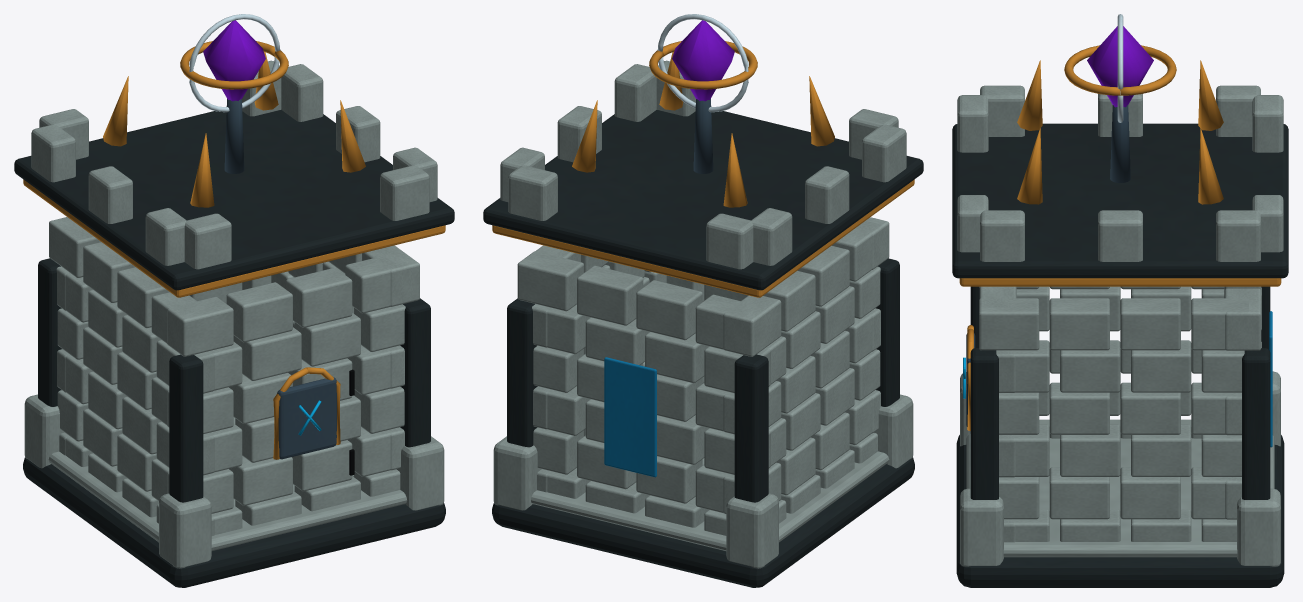
Rendered from SM_tower_core.fbx.
3 views of the same model, side by side, from view 1: azimuth 30°, elevation 25°; view 2: azimuth 150°, elevation 25°; view 3: azimuth 270°, elevation 25° (orthographic). The views are drawn at different scales.
Parts seen in each view (by area): view 1: SM_tower_core; view 2: SM_tower_core; view 3: SM_tower_core.
Boxes of the visible parts, <box> form: SM_tower_core: <box>14,14,454,587</box>; SM_tower_core: <box>483,14,923,587</box>; SM_tower_core: <box>952,14,1288,587</box>.
Size of the model in its own units: 2.6 by 2.6 by 4.3.
